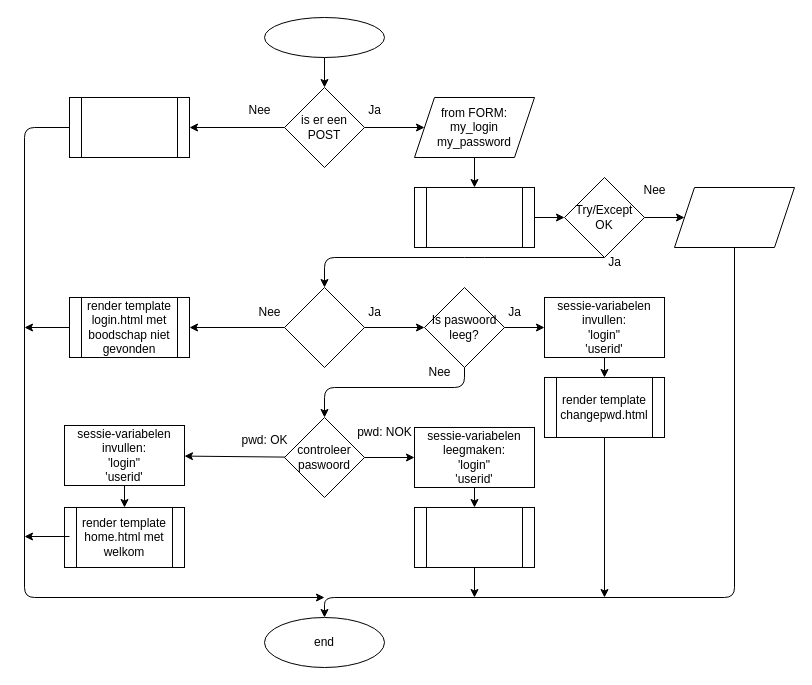
Image size: 812x685. Some labels were removed from this diagram. Here are the shapes that lost their labels. From the top down, the centre of each, then its label:
At (x=324, y=37): "Login".
At (x=129, y=127): "render template login.html".
At (x=474, y=217): "ophalen gebruiker adhv my_login".
At (x=734, y=217): "return error".
At (x=324, y=327): "is gebruiker gevonden?".
At (x=474, y=537): "render template login.html met boodschap fout wachtwoord".
